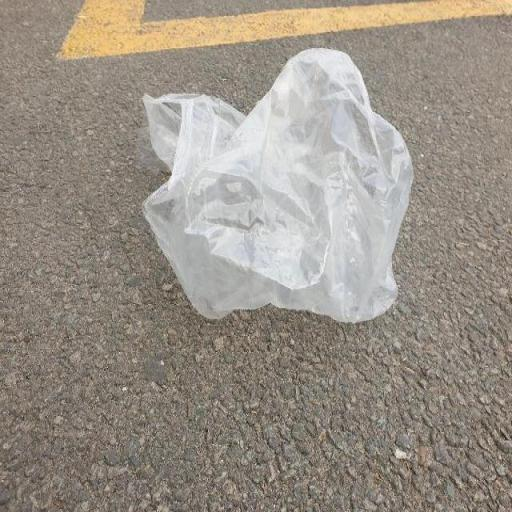plastic-bag: (145, 49, 415, 331)
